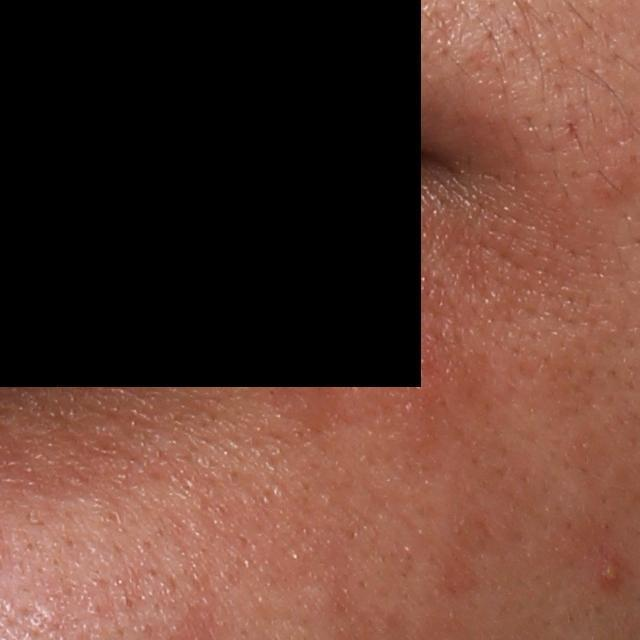pustule: (595, 551, 627, 592)
